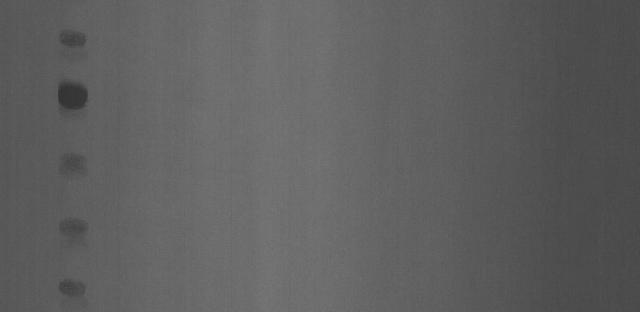oil_spot: (52, 73, 100, 120), (53, 19, 101, 56), (52, 212, 97, 241), (56, 150, 98, 179), (57, 272, 94, 299)
